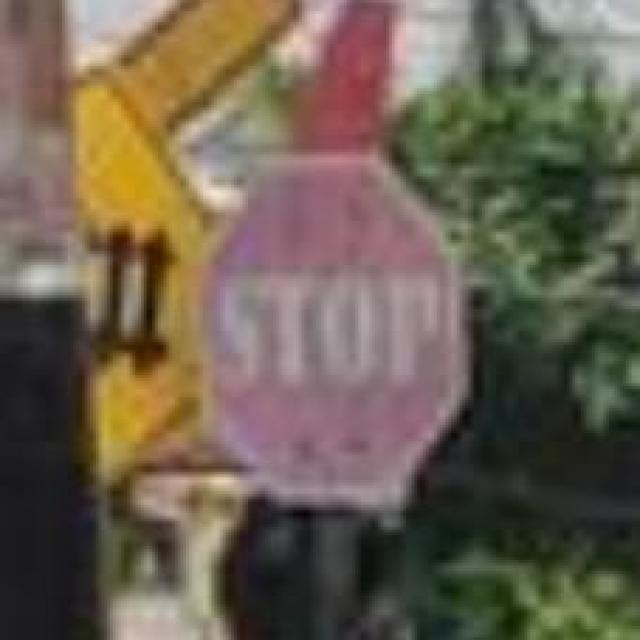traffic sign: (197, 163, 468, 505)
